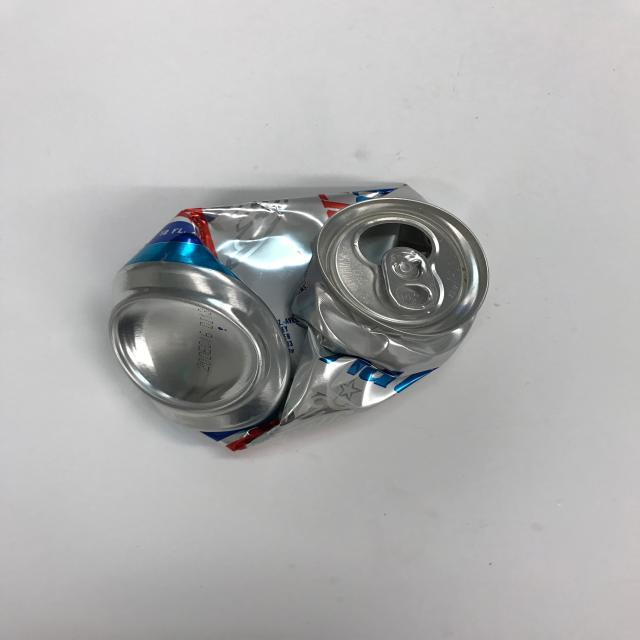metal: (110, 184, 491, 456)
